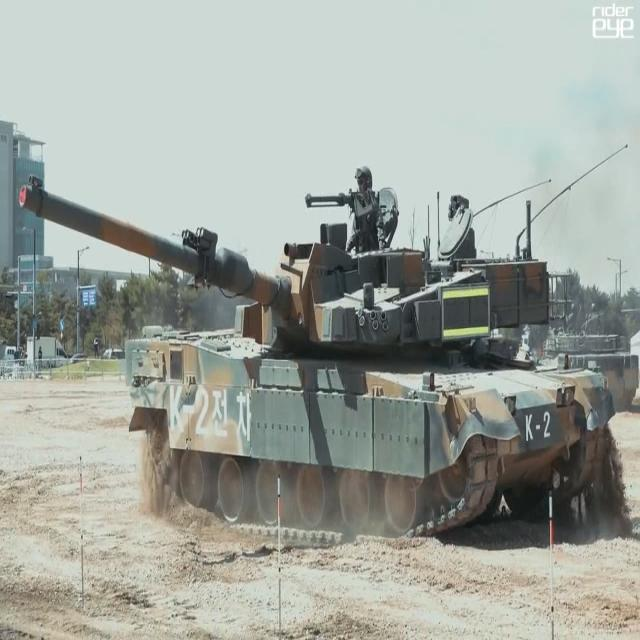korea tank: (18, 164, 617, 542)
